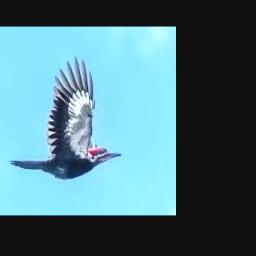Woodpecker: (9, 56, 122, 179)
